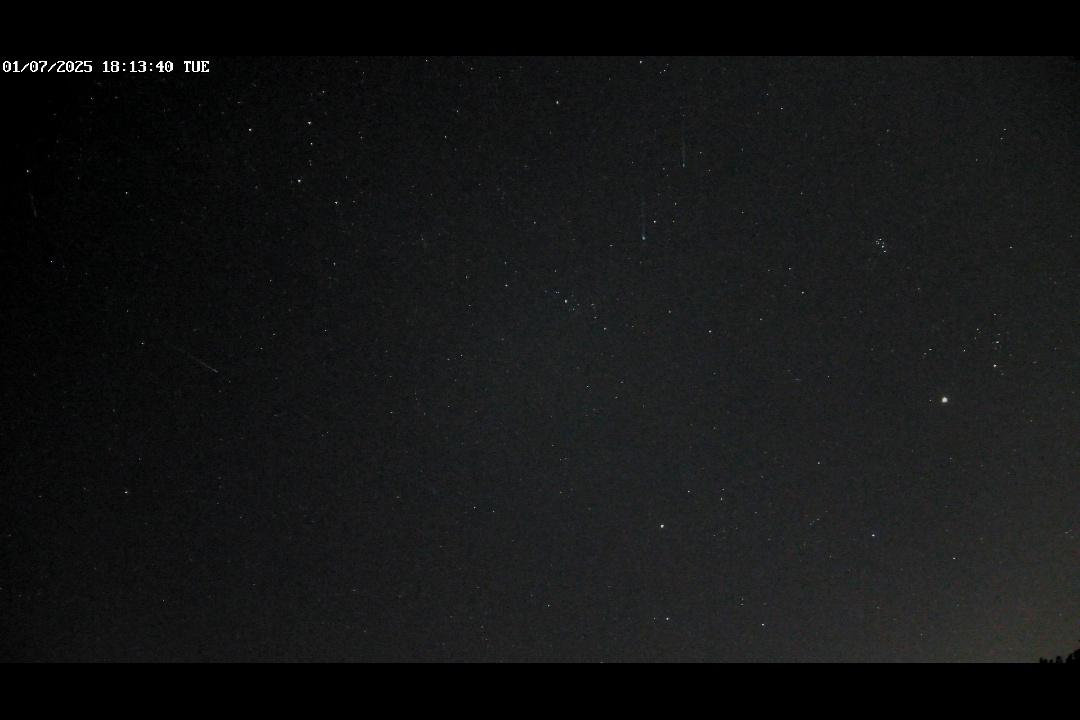Plane: (20, 187, 49, 231), (632, 191, 655, 246), (178, 350, 224, 374), (677, 124, 691, 174)
